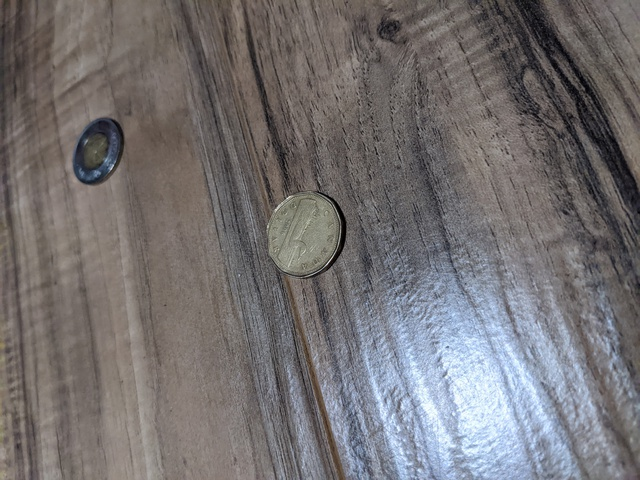loonie: (260, 188, 354, 274)
